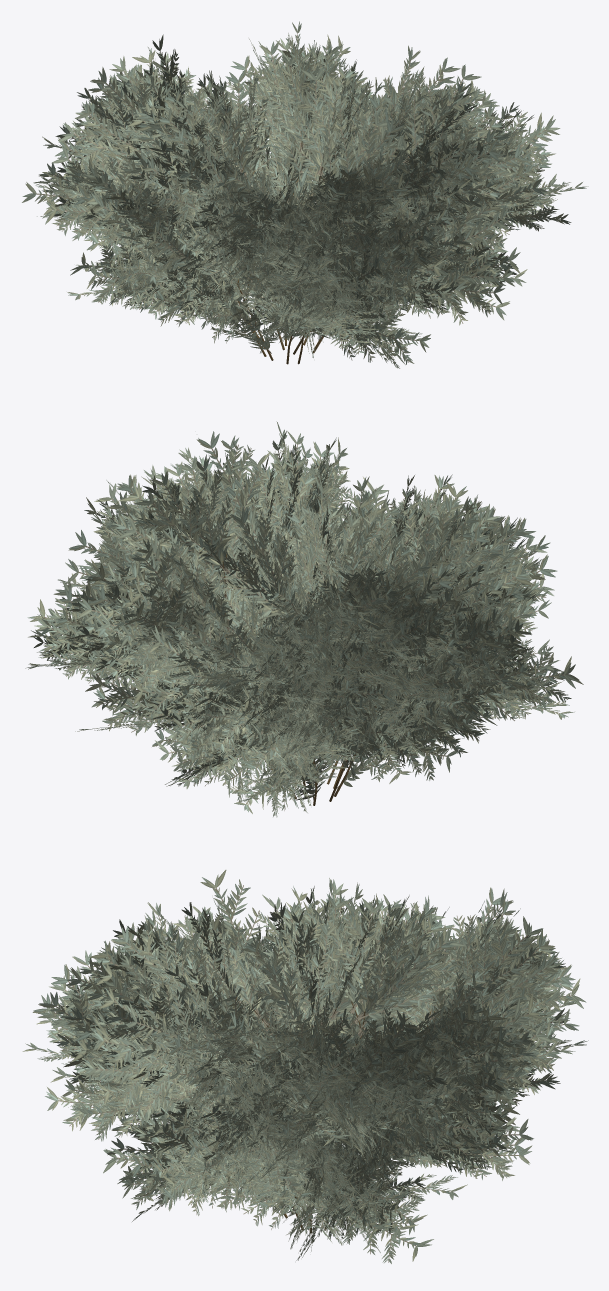
The model's file is sagebrush_grey_v01.glb.
3 renders of one model, top to bottom at view 1: azimuth 30°, elevation 25°; view 2: azimuth 150°, elevation 25°; view 3: azimuth 270°, elevation 25°, orthographic. The views are drawn at different scales.
Visible parts, largest first — view 1: sagebrush_grey_v01; view 2: sagebrush_grey_v01; view 3: sagebrush_grey_v01.
Boxes of the visible parts, x1,y1,x2,y2 form: sagebrush_grey_v01: (22, 21, 588, 368); sagebrush_grey_v01: (25, 421, 583, 817); sagebrush_grey_v01: (22, 870, 588, 1263).
Bounding box in the file's own units: 1.16 × 0.65 × 1.05.
Materials: 2 (2 with a texture image).
